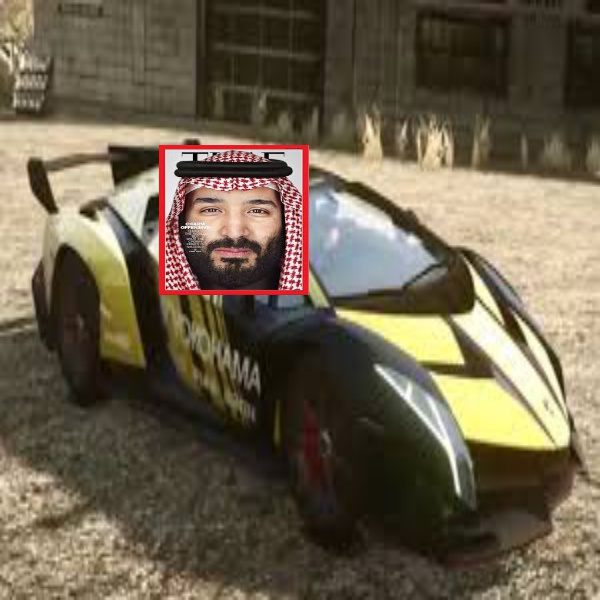time_cover: (157, 138, 309, 297)
